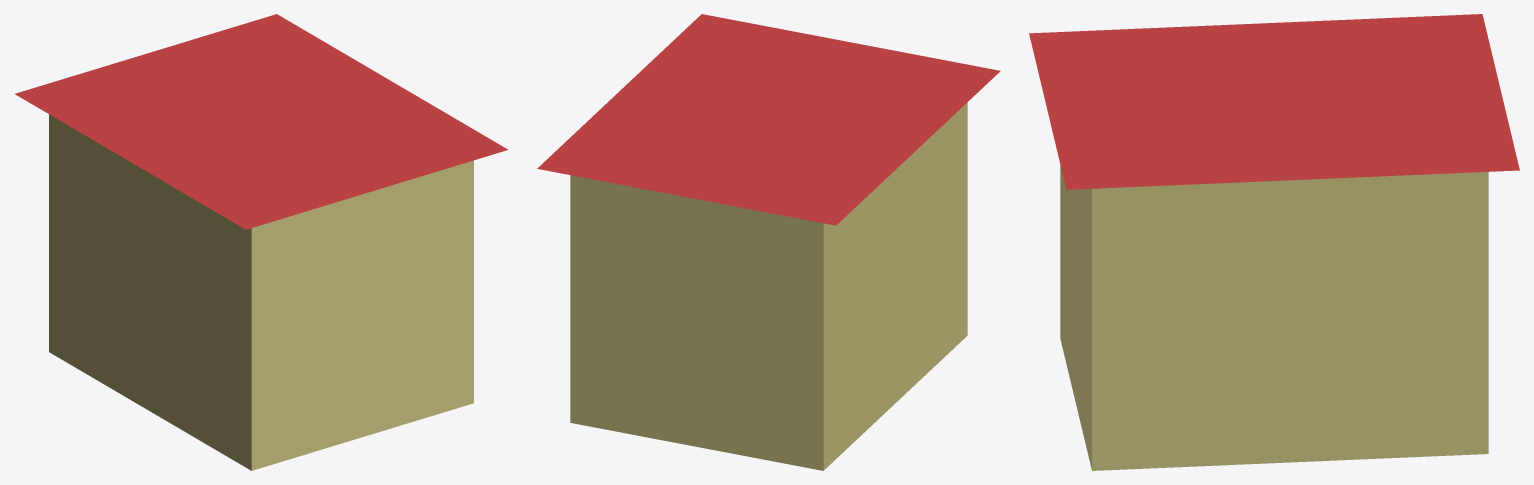
3 views of the same model, side by side, from view 1: azimuth 30°, elevation 25°; view 2: azimuth 150°, elevation 25°; view 3: azimuth 270°, elevation 25° (orthographic). The views are drawn at different scales.
Bounding box in the file's own units: 7.29 × 8.59 × 5.68.
